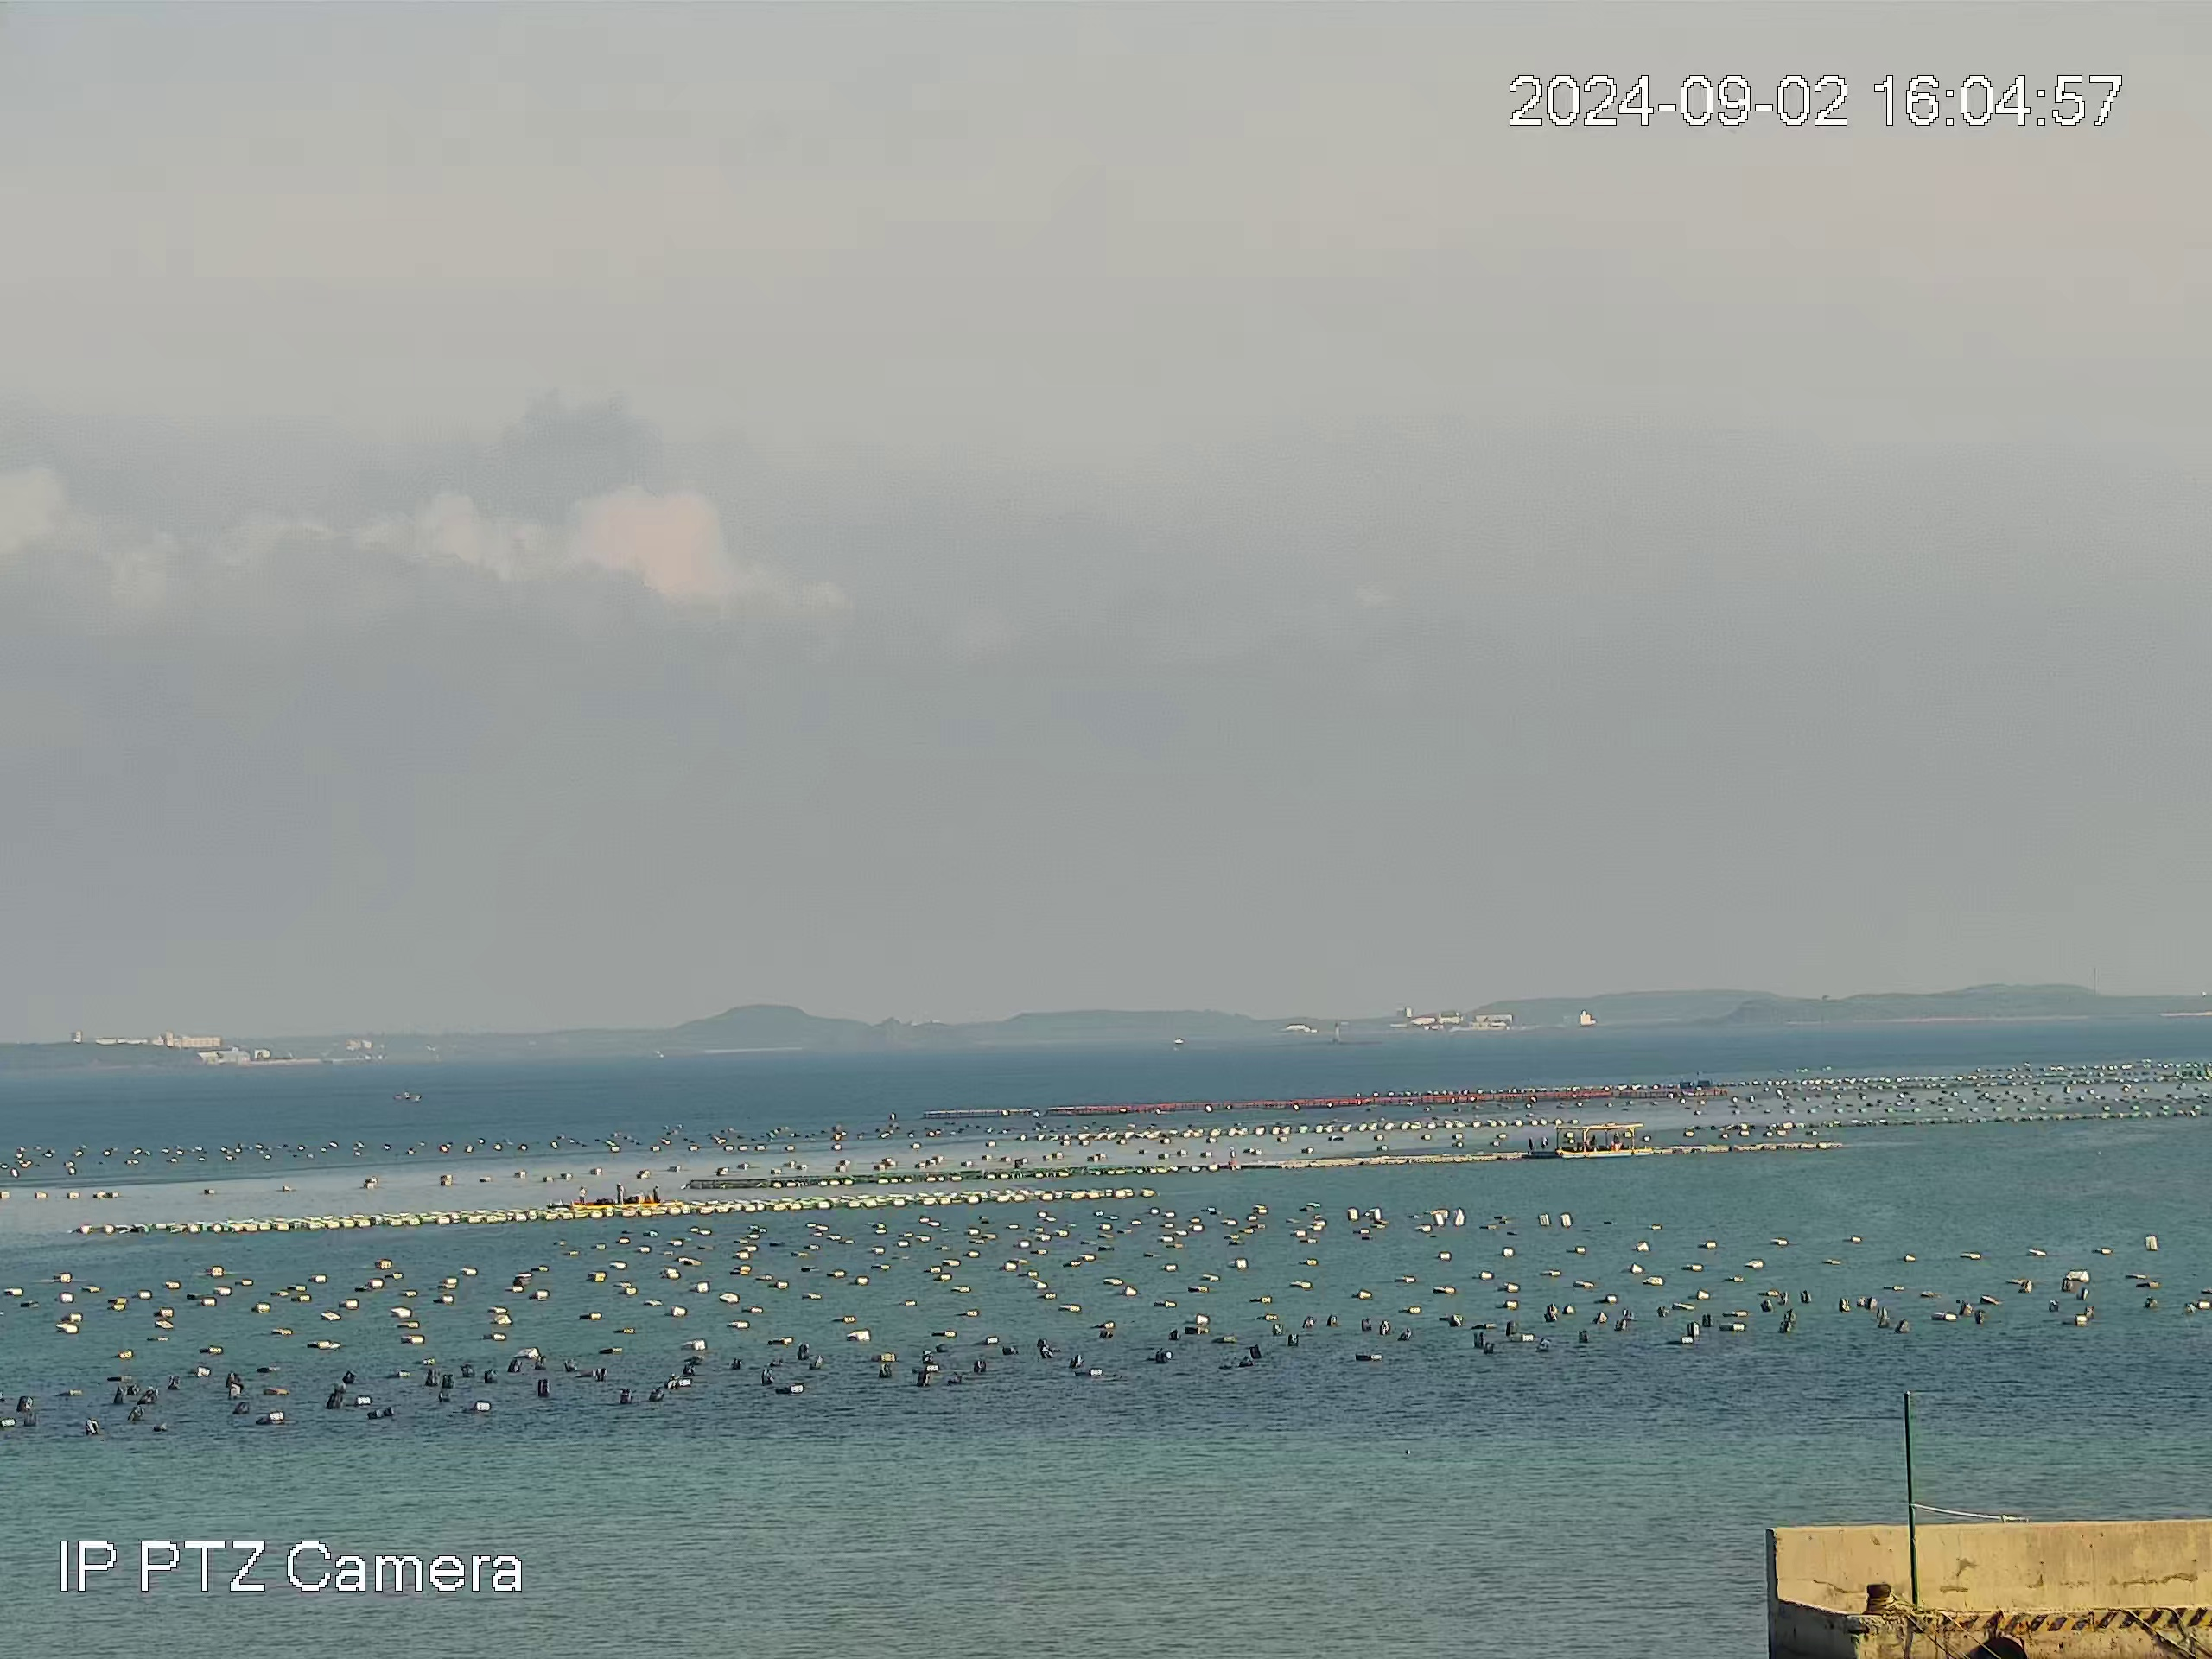boat: (1554, 1122, 1655, 1160), (570, 1182, 665, 1209), (391, 1090, 423, 1103)
